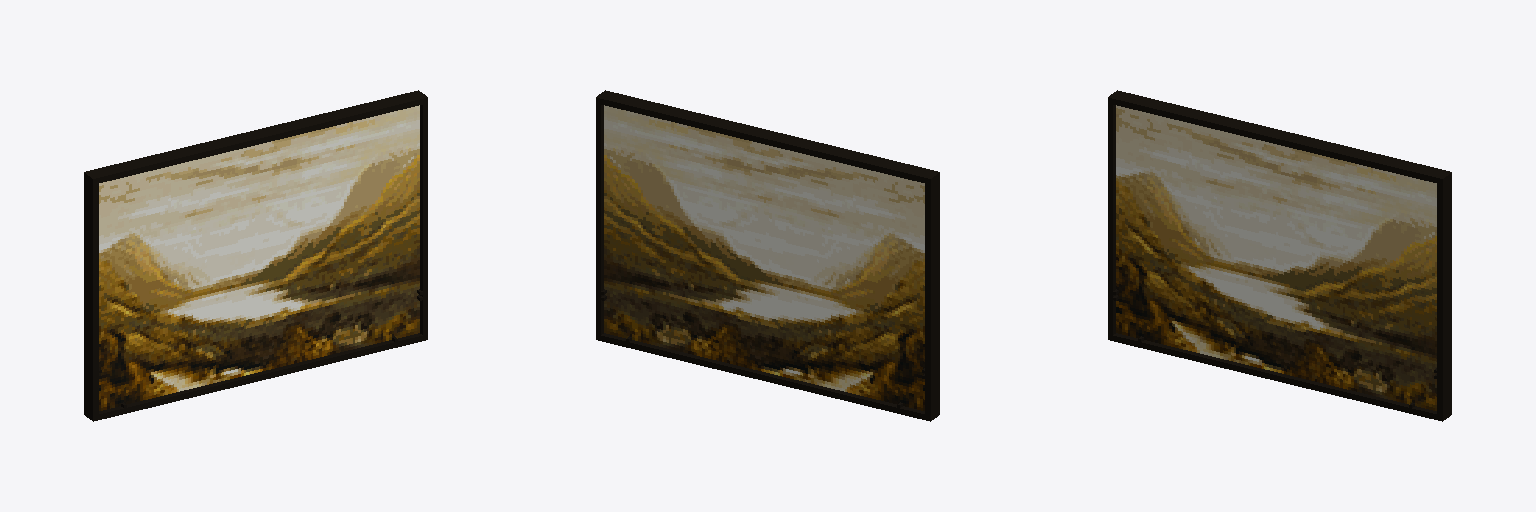
The picture shows the model from 3 angles: view 1: azimuth 30°, elevation 25°; view 2: azimuth 150°, elevation 25°; view 3: azimuth 330°, elevation 25°; orthographic projection.
Visible parts, largest first — view 1: object 1; view 2: object 1; view 3: object 1.
Boxes of the visible parts, x1=… form: object 1: x1=84, y1=90, x2=427, y2=421; object 1: x1=596, y1=90, x2=939, y2=421; object 1: x1=1108, y1=90, x2=1451, y2=421.
Size of the model in its own units: 12 by 8.3 by 0.6.
Materials: 1 (1 with a texture image).